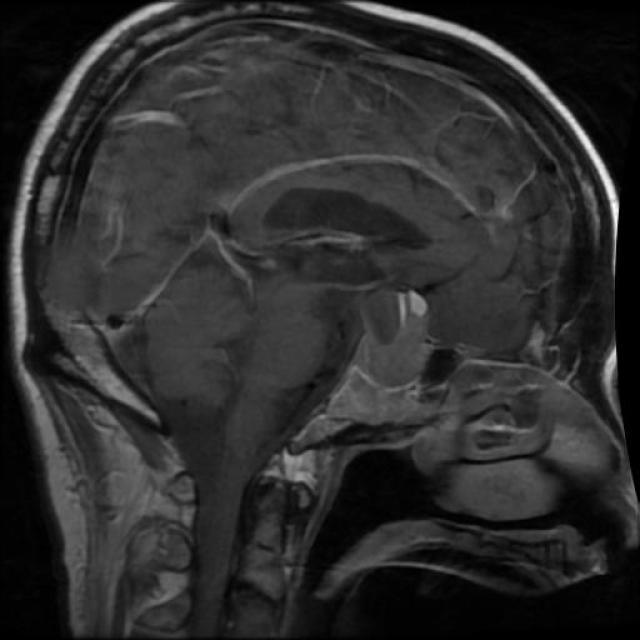pituitary: (330, 274, 432, 432)
